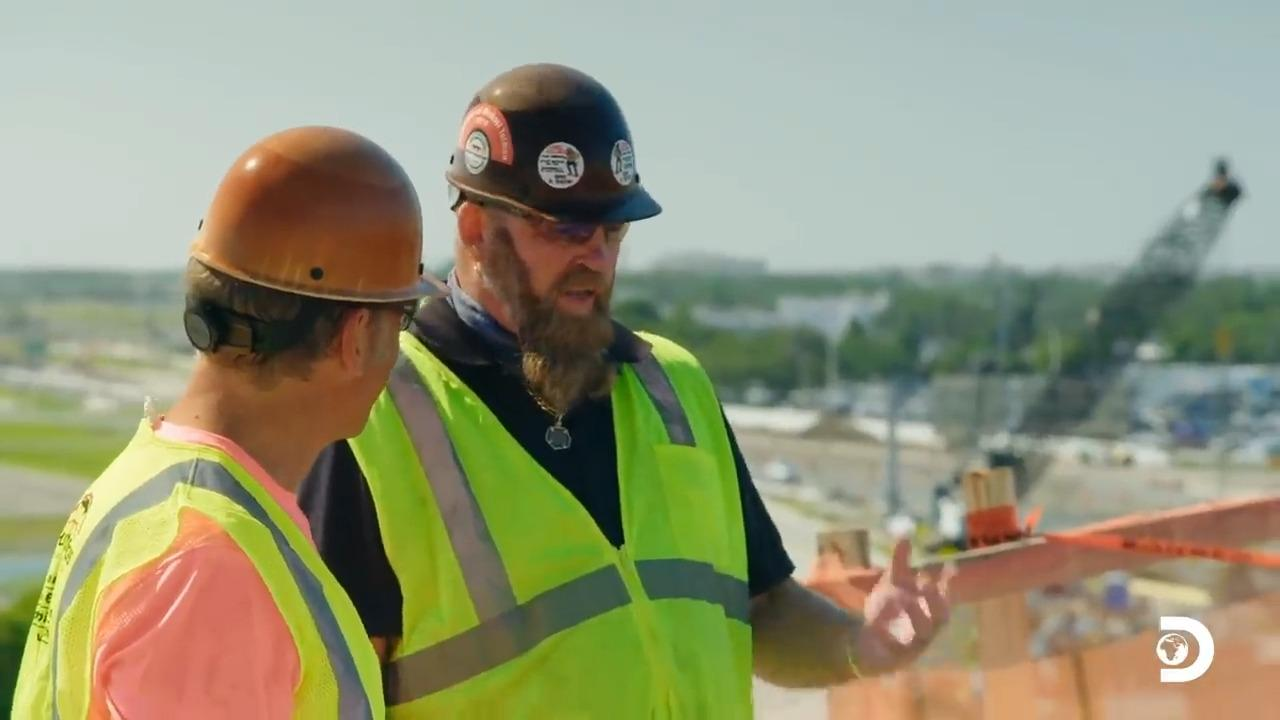Helmet: (188, 124, 450, 305), (444, 61, 662, 224)
Person: (295, 61, 951, 719), (9, 123, 451, 719)
Safety Vest: (387, 360, 718, 702), (60, 481, 344, 720)
bare-arms: (845, 547, 957, 666)
